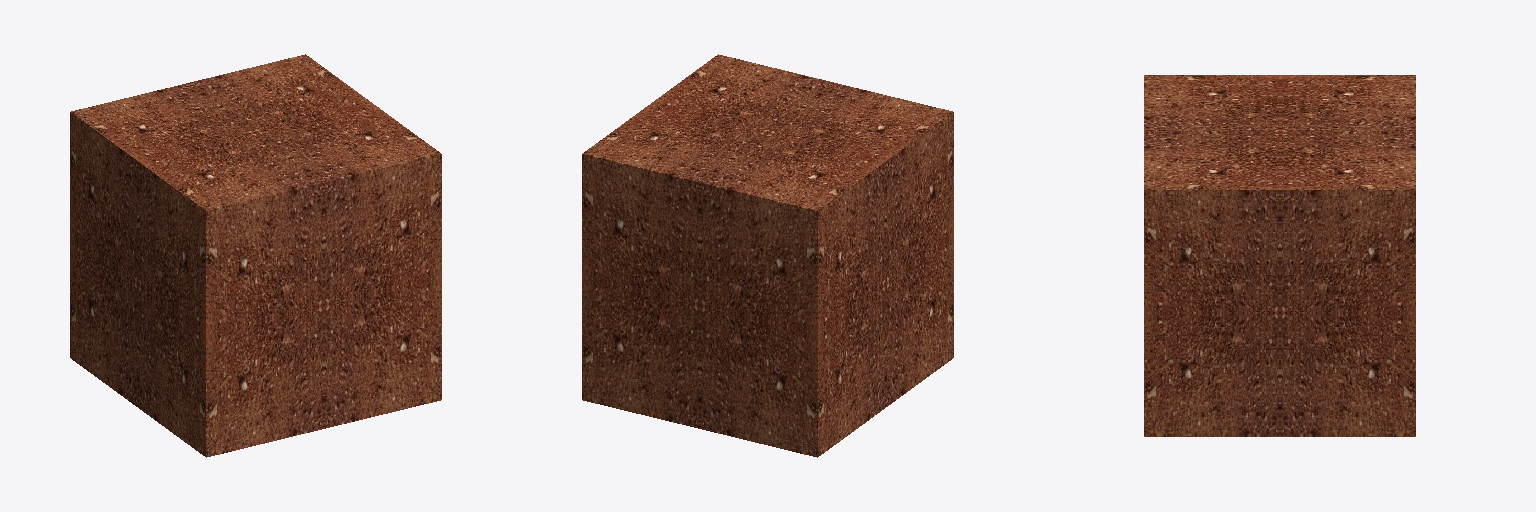
The picture shows the model from 3 angles: view 1: azimuth 30°, elevation 25°; view 2: azimuth 150°, elevation 25°; view 3: azimuth 270°, elevation 25°; orthographic projection.
Parts seen in each view (by area): view 1: cube; view 2: cube; view 3: cube.
Boxes of the visible parts, x1=… form: cube: x1=70, y1=54, x2=441, y2=457; cube: x1=582, y1=54, x2=953, y2=457; cube: x1=1144, y1=75, x2=1415, y2=436.
Size of the model in its own units: 1 by 1 by 1.
1 materials, 1 textured.